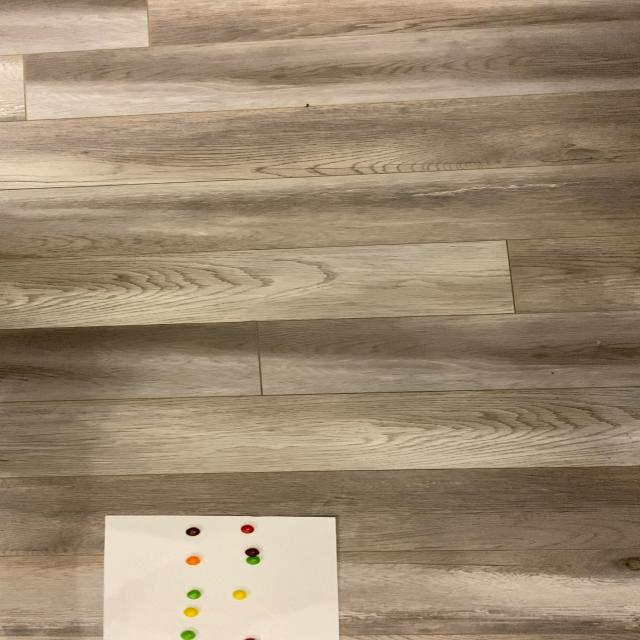smartie: (183, 608, 199, 618), (240, 524, 255, 534), (245, 548, 259, 558), (186, 556, 200, 566), (246, 556, 260, 566), (232, 591, 247, 600), (179, 632, 195, 640), (187, 590, 201, 599), (186, 528, 201, 536)
